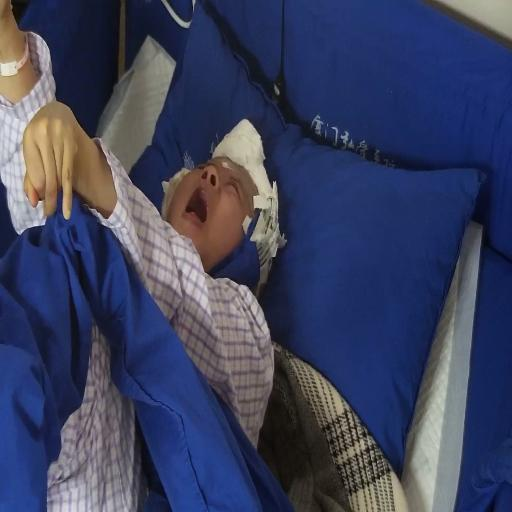Seizure: (167, 134, 268, 263)
